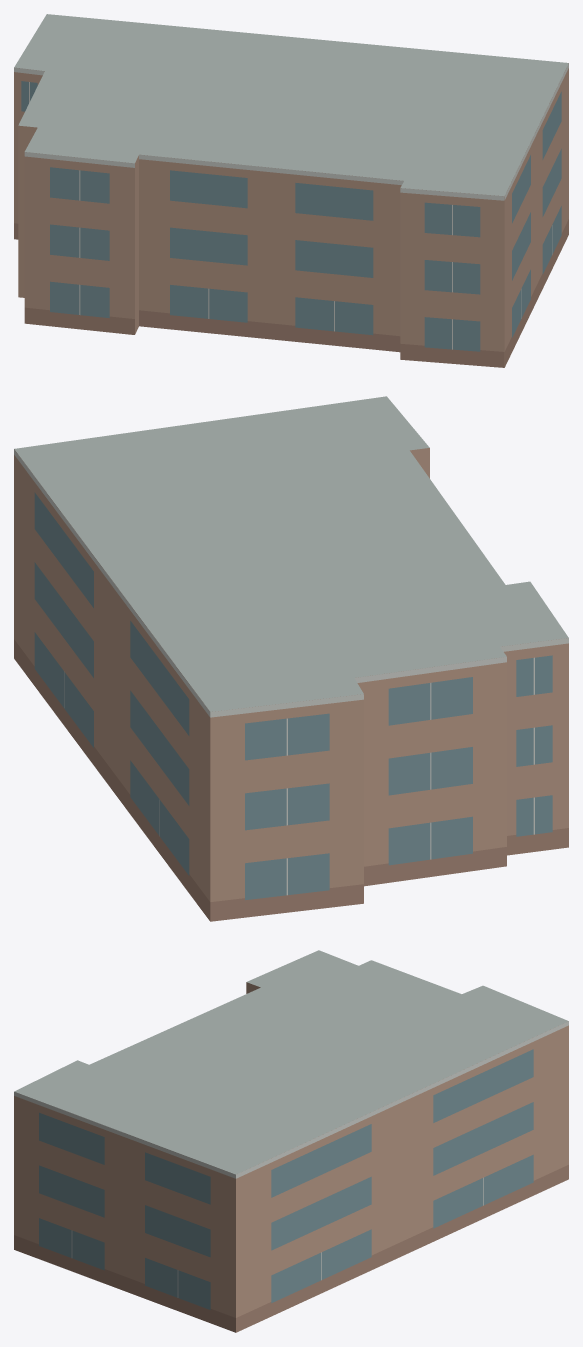
Rendered from survey-upis-32716358.glb.
The picture shows the model from 3 angles, top to bottom: view 1: azimuth 30°, elevation 25°; view 2: azimuth 150°, elevation 25°; view 3: azimuth 270°, elevation 25°; orthographic projection. The views are drawn at different scales.
Visible parts, largest first — view 1: survey-upis-32716358.tmp; view 2: survey-upis-32716358.tmp; view 3: survey-upis-32716358.tmp.
Part boxes in pixels (x1=…): survey-upis-32716358.tmp: x1=14, y1=14, x2=568, y2=367; survey-upis-32716358.tmp: x1=14, y1=396, x2=568, y2=921; survey-upis-32716358.tmp: x1=14, y1=950, x2=568, y2=1332.
Size of the model in its own units: 27.86 by 9.15 by 29.1.
